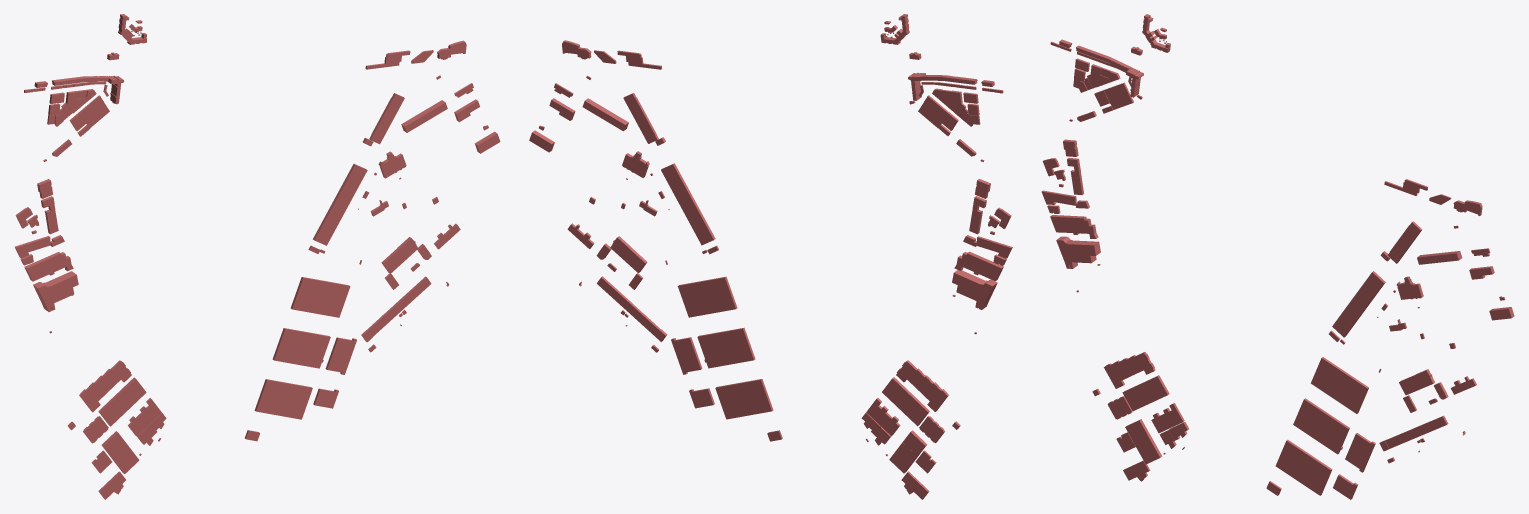
File: red_buildings_lod12.obj
3 views of the same model, side by side, from view 1: azimuth 30°, elevation 25°; view 2: azimuth 150°, elevation 25°; view 3: azimuth 330°, elevation 25° (orthographic). The views are drawn at different scales.
Parts seen in each view (by area): view 1: BAG_0599100010074628, BAG_0599100010032492, BAG_0599100010058148, BAG_0599100000018261, BAG_0606100000001911, BAG_0606100000012577, BAG_0606100000002555, BAG_0606100000000348, BAG_0599100000641267, BAG_0599100010034250, BAG_0599100000142086, BAG_0599100000330775 (+2 smaller); view 2: BAG_0599100010074628, BAG_0599100010058148, BAG_0599100010032492, BAG_0599100000018261, BAG_0606100000001911, BAG_0606100000012577, BAG_0606100000002555, BAG_0606100000000348, BAG_0599100000641267, BAG_0599100010034250, BAG_0599100000142086, BAG_0599100000330775 (+2 smaller); view 3: BAG_0599100010074628, BAG_0599100010032492, BAG_0599100010058148, BAG_0599100000018261, BAG_0606100000012577, BAG_0606100000001911, BAG_0606100000002555, BAG_0606100000000348, BAG_0599100010034250, BAG_0599100000641267, BAG_0599100000142086, BAG_0599100000330775 (+2 smaller).
Part boxes in pixels (left/top/right/bottom): BAG_0599100010074628: left=290, top=277, right=350, bottom=317; BAG_0599100010032492: left=254, top=379, right=312, bottom=419; BAG_0599100010058148: left=272, top=328, right=330, bottom=368; BAG_0599100000018261: left=313, top=164, right=367, bottom=245; BAG_0606100000001911: left=79, top=360, right=131, bottom=412; BAG_0606100000012577: left=33, top=271, right=78, bottom=311; BAG_0606100000002555: left=98, top=377, right=146, bottom=426; BAG_0606100000000348: left=24, top=252, right=73, bottom=281; BAG_0599100000641267: left=367, top=276, right=431, bottom=336; BAG_0599100010034250: left=325, top=337, right=356, bottom=374; BAG_0599100000142086: left=369, top=93, right=404, bottom=144; BAG_0599100000330775: left=381, top=237, right=418, bottom=273; BAG_0599100010074628: left=677, top=276, right=737, bottom=317; BAG_0599100010058148: left=697, top=327, right=755, bottom=368; BAG_0599100010032492: left=715, top=379, right=773, bottom=419; BAG_0599100000018261: left=661, top=163, right=715, bottom=245; BAG_0606100000001911: left=896, top=360, right=948, bottom=411; BAG_0606100000012577: left=952, top=270, right=997, bottom=309; BAG_0606100000002555: left=882, top=377, right=929, bottom=426; BAG_0606100000000348: left=954, top=251, right=1003, bottom=281; BAG_0599100000641267: left=597, top=276, right=660, bottom=336; BAG_0599100010034250: left=671, top=337, right=702, bottom=374; BAG_0599100000142086: left=623, top=93, right=658, bottom=143; BAG_0599100000330775: left=610, top=236, right=647, bottom=273; BAG_0599100010074628: left=1310, top=357, right=1368, bottom=413; BAG_0599100010032492: left=1275, top=439, right=1332, bottom=495; BAG_0599100010058148: left=1293, top=398, right=1349, bottom=454; BAG_0599100000018261: left=1332, top=271, right=1385, bottom=337; BAG_0606100000012577: left=1056, top=236, right=1100, bottom=268; BAG_0606100000001911: left=1104, top=352, right=1155, bottom=388; BAG_0606100000002555: left=1122, top=375, right=1169, bottom=411; BAG_0606100000000348: left=1050, top=215, right=1098, bottom=238; BAG_0599100010034250: left=1345, top=433, right=1375, bottom=472; BAG_0599100000641267: left=1385, top=415, right=1448, bottom=448; BAG_0599100000142086: left=1387, top=221, right=1422, bottom=263; BAG_0599100000330775: left=1399, top=369, right=1434, bottom=395.
Bounding box in the file's own units: 1475 × 1401 × 33.26.
